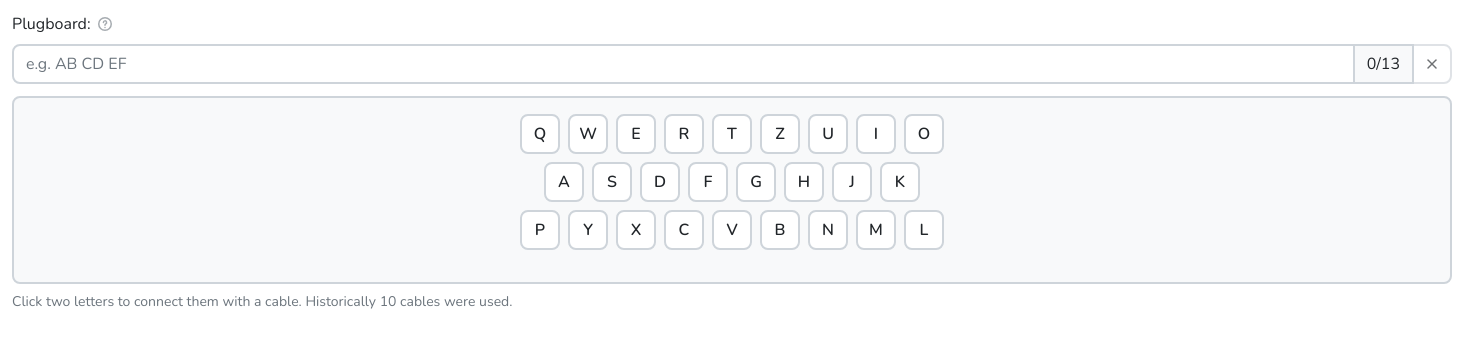
Test case: Plugboard text control › reports an unfinished pair once the field loses focus
Step 1. Type "AB C" into the field labelled "Plugboard:" → point(683, 64), box [12,44,1355,84]
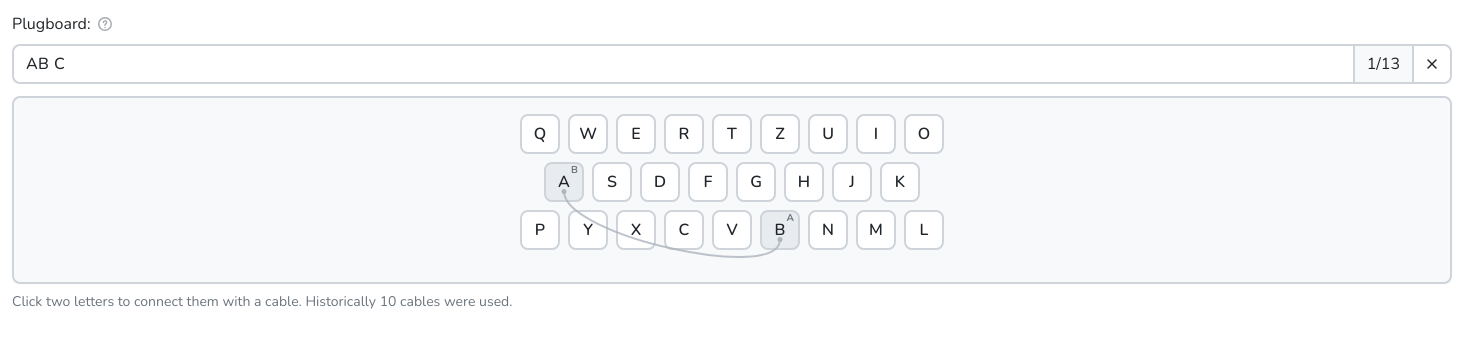
Step 2. Press Tab
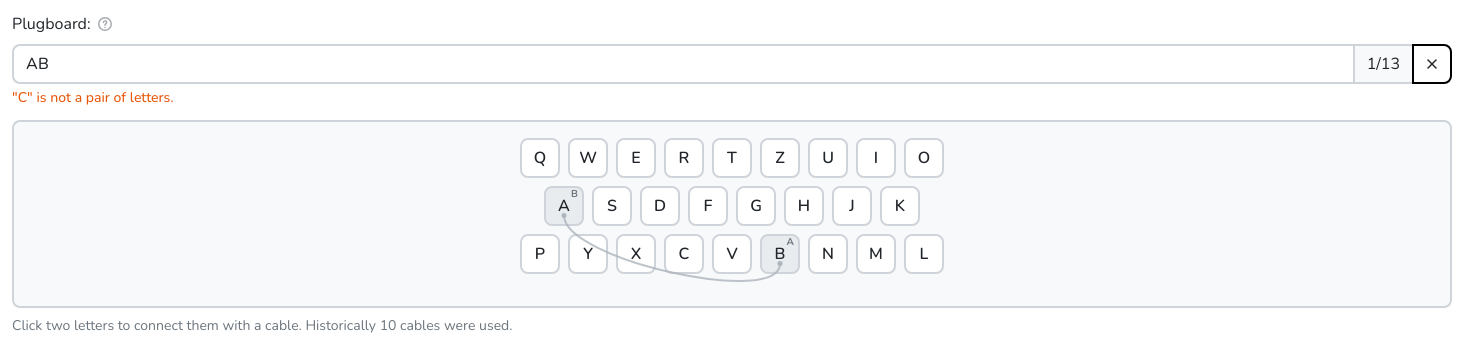
Expected: the message reads "\"C\" is not a pair of letters.", [12,88,174,107]
